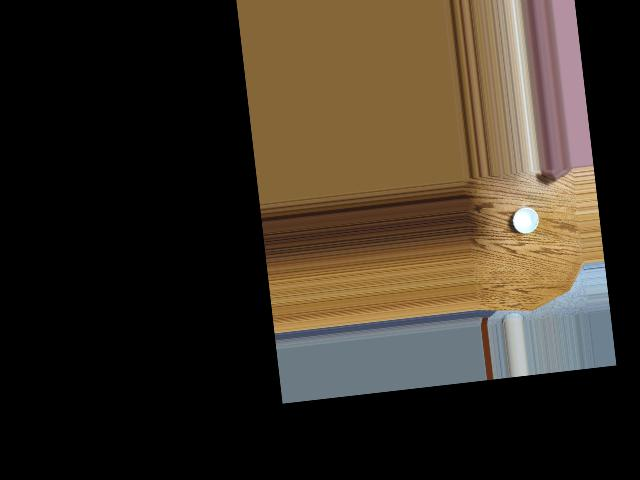cotage: (512, 202, 543, 235)
